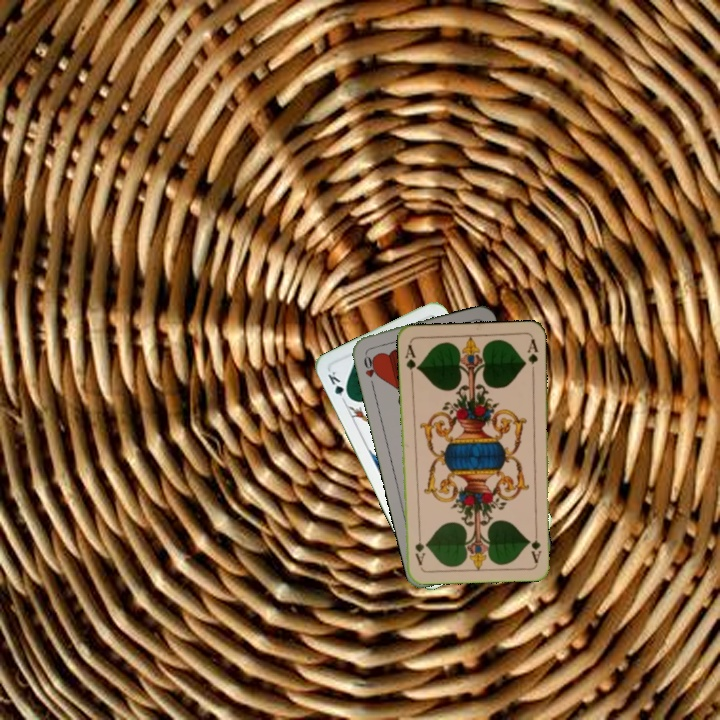GA: (401, 340, 421, 380), (528, 524, 543, 565)
GK: (324, 367, 353, 405)
HO: (360, 349, 381, 389)
